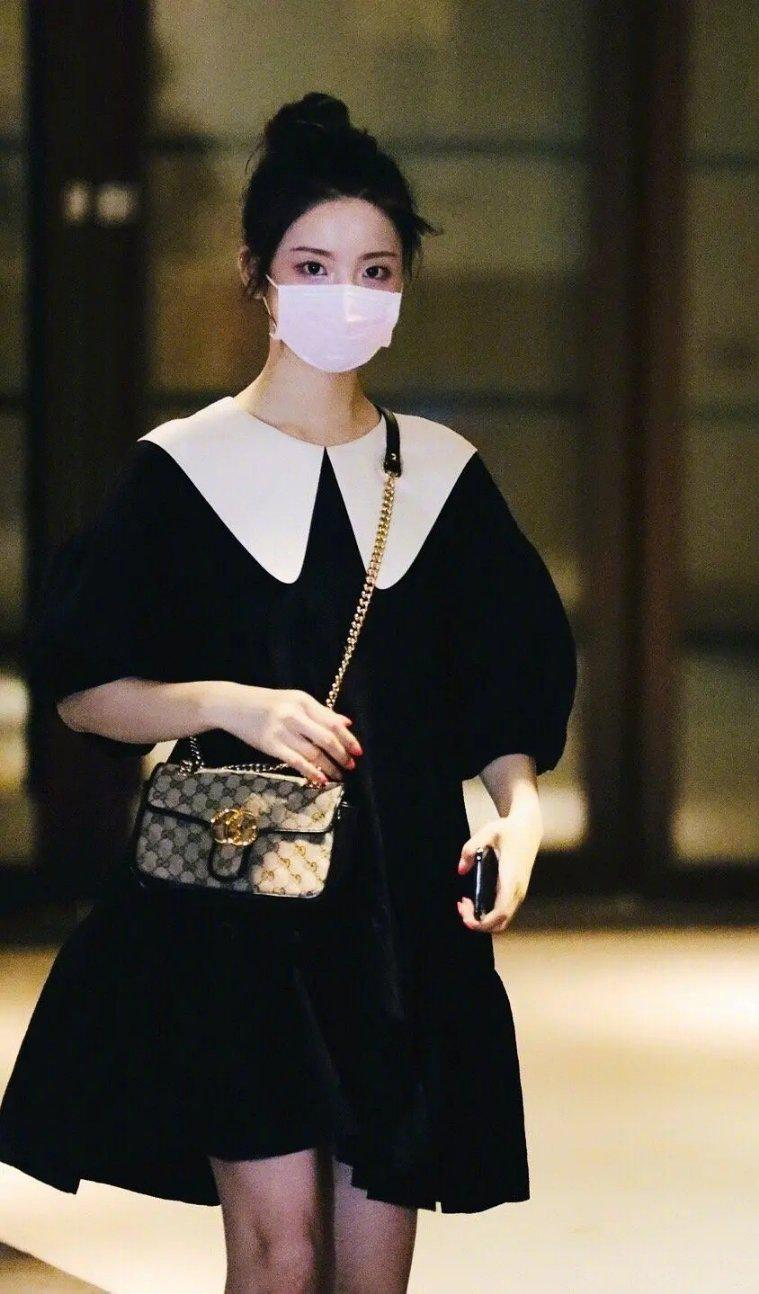OK: (275, 219, 404, 371)
